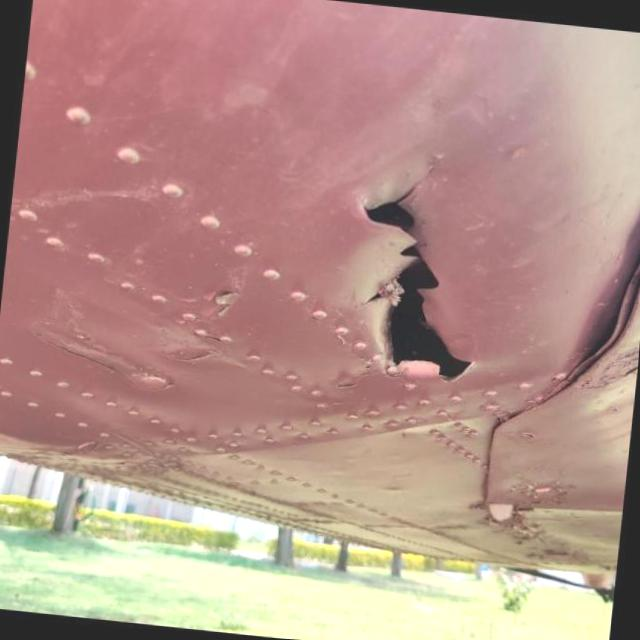dent: (522, 174, 640, 398)
